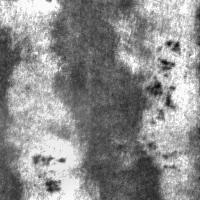patches: (56, 1, 151, 198), (0, 75, 100, 183), (123, 148, 159, 200), (1, 24, 25, 97), (146, 53, 177, 109), (1, 139, 25, 200)
